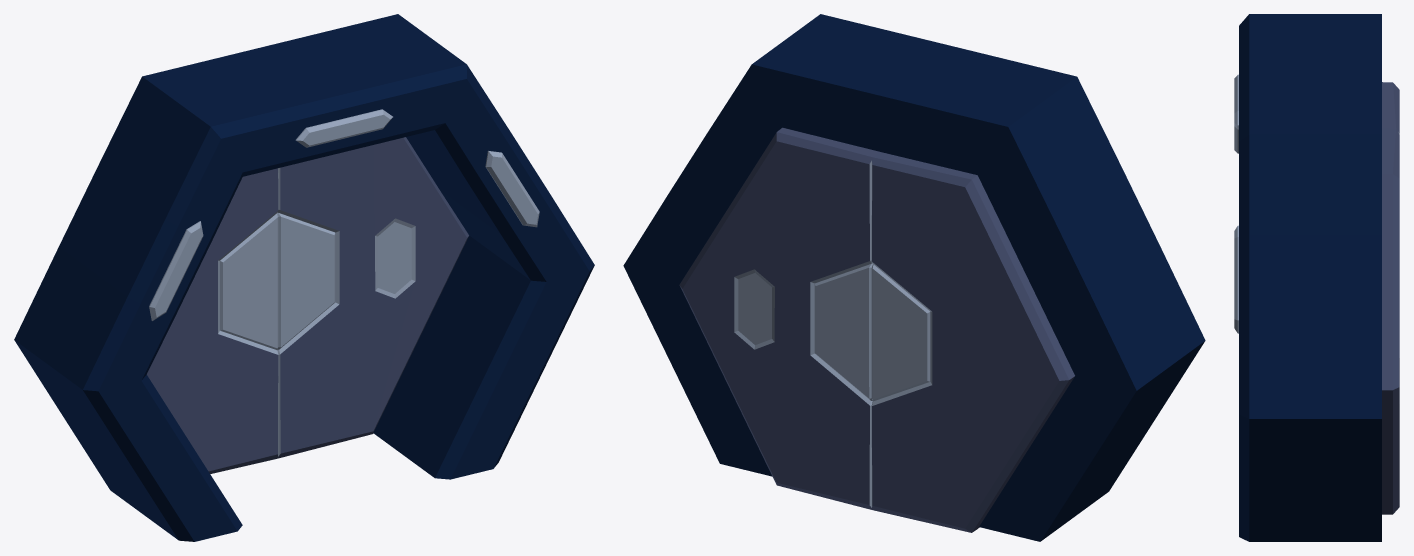
The model's file is door.fbx.
3 views of the same model, side by side, from view 1: azimuth 30°, elevation 25°; view 2: azimuth 150°, elevation 25°; view 3: azimuth 270°, elevation 25° (orthographic). The views are drawn at different scales.
Visible parts, largest first — view 1: doorFrame, doorRight, doorLeft, doorFrame.002; view 2: doorFrame, doorLeft, doorRight; view 3: doorFrame, doorRight, doorFrame.002, doorLeft.
Boxes of the visible parts, <box> form: doorFrame: <box>14,14,594,541</box>; doorRight: <box>277,137,468,458</box>; doorLeft: <box>147,168,278,473</box>; doorFrame.002: <box>149,109,539,320</box>; doorFrame: <box>623,14,1205,541</box>; doorLeft: <box>871,152,1074,532</box>; doorRight: <box>679,127,879,509</box>; doorFrame: <box>1239,14,1381,541</box>; doorRight: <box>1382,128,1399,514</box>; doorFrame.002: <box>1234,74,1238,333</box>; doorLeft: <box>1382,82,1399,134</box>.
Size of the model in its own units: 580 by 442 by 168.
